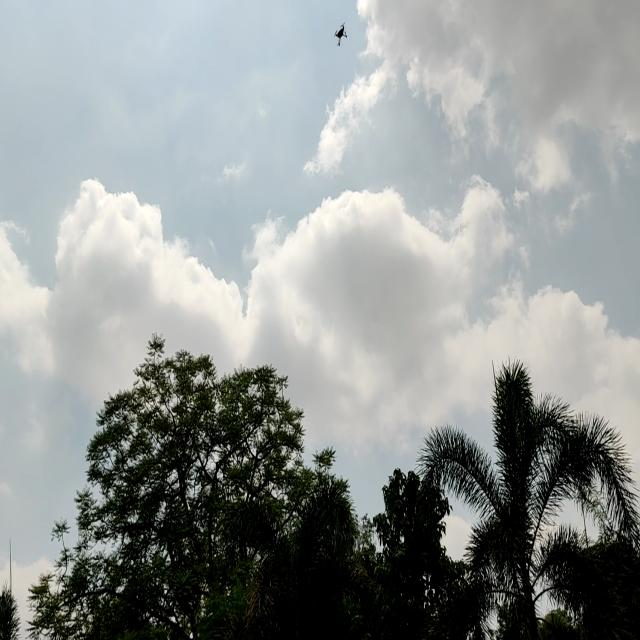drone: (328, 18, 356, 50)
